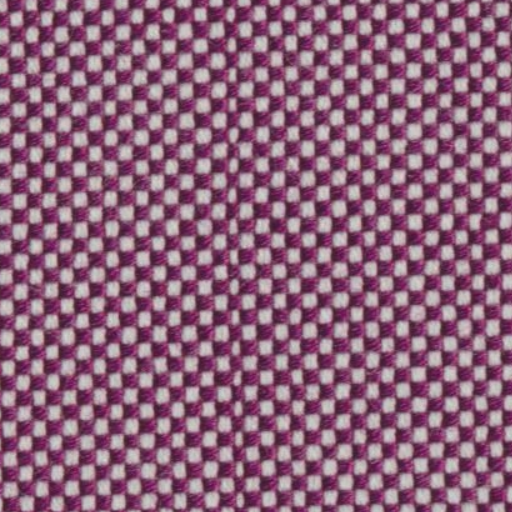TuoSha: (212, 12, 264, 508)
